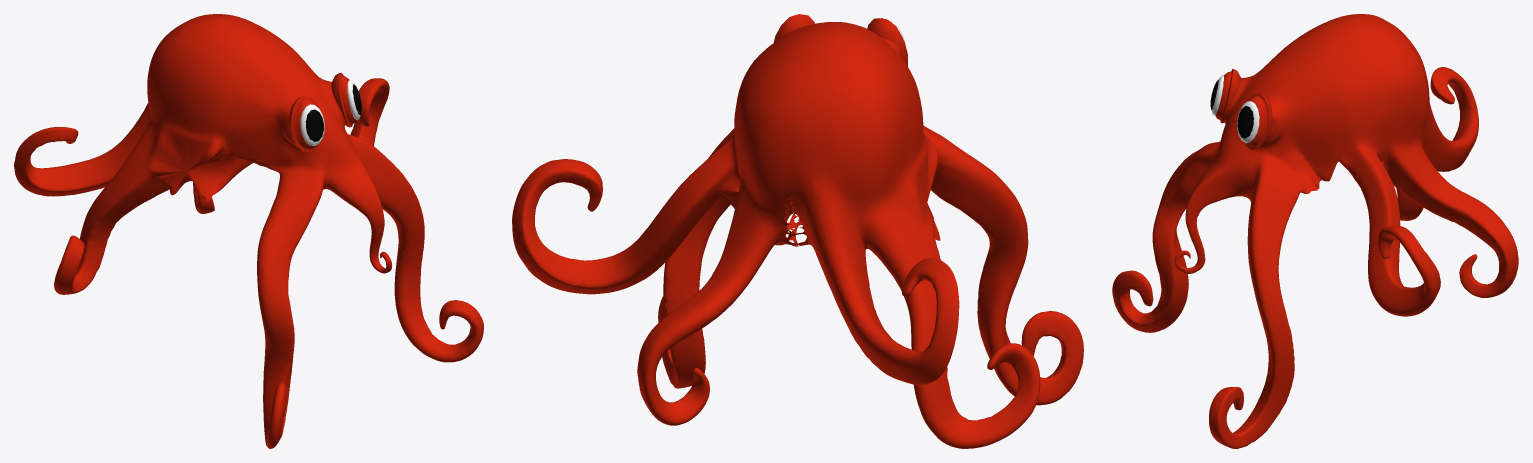
3 renders of one model, left to right at view 1: azimuth 30°, elevation 25°; view 2: azimuth 150°, elevation 25°; view 3: azimuth 270°, elevation 25°, orthographic. The views are drawn at different scales.
Parts seen in each view (by area): view 1: Octopus_head, octo_eyes; view 2: Octopus_head, octo_eyes; view 3: Octopus_head, octo_eyes.
Boxes of the visible parts, x1=… form: Octopus_head: x1=14, y1=14, x2=483, y2=448; octo_eyes: x1=289, y1=72, x2=361, y2=152; Octopus_head: x1=512, y1=22, x2=1083, y2=448; octo_eyes: x1=773, y1=14, x2=907, y2=66; Octopus_head: x1=1112, y1=14, x2=1518, y2=448; octo_eyes: x1=1210, y1=69, x2=1272, y2=149.
Size of the model in its own units: 135 by 132 by 123.
